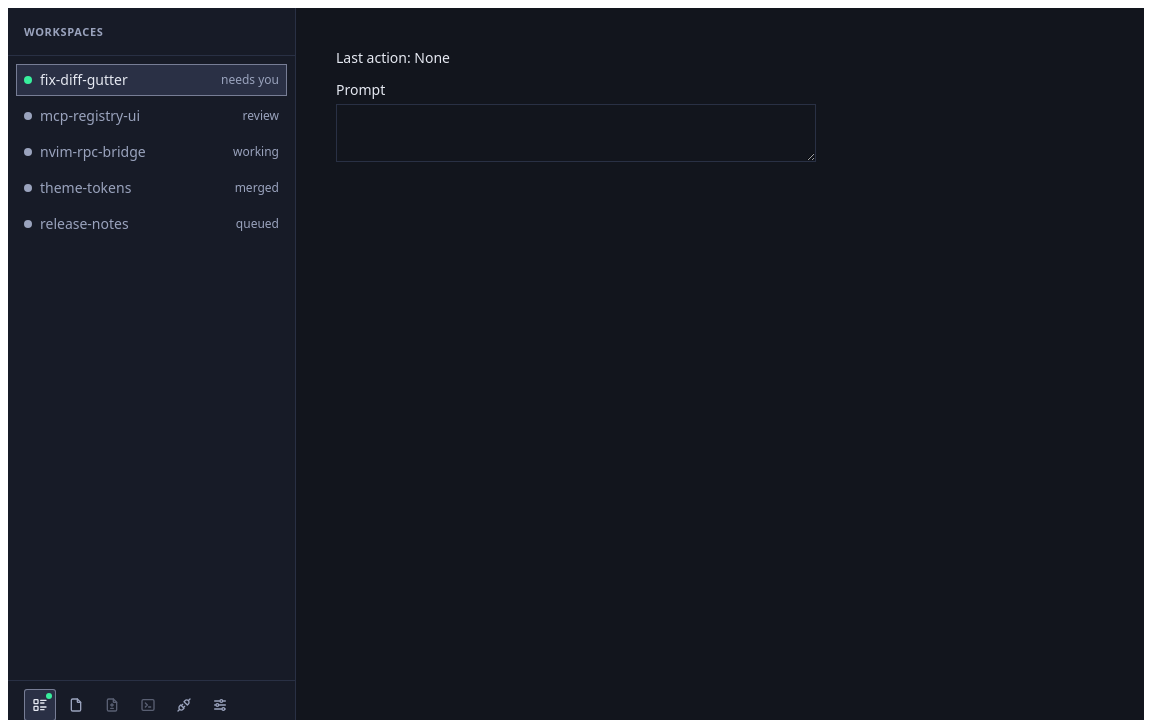
it: shows an empty result
The image size is (1152, 720).
Press k
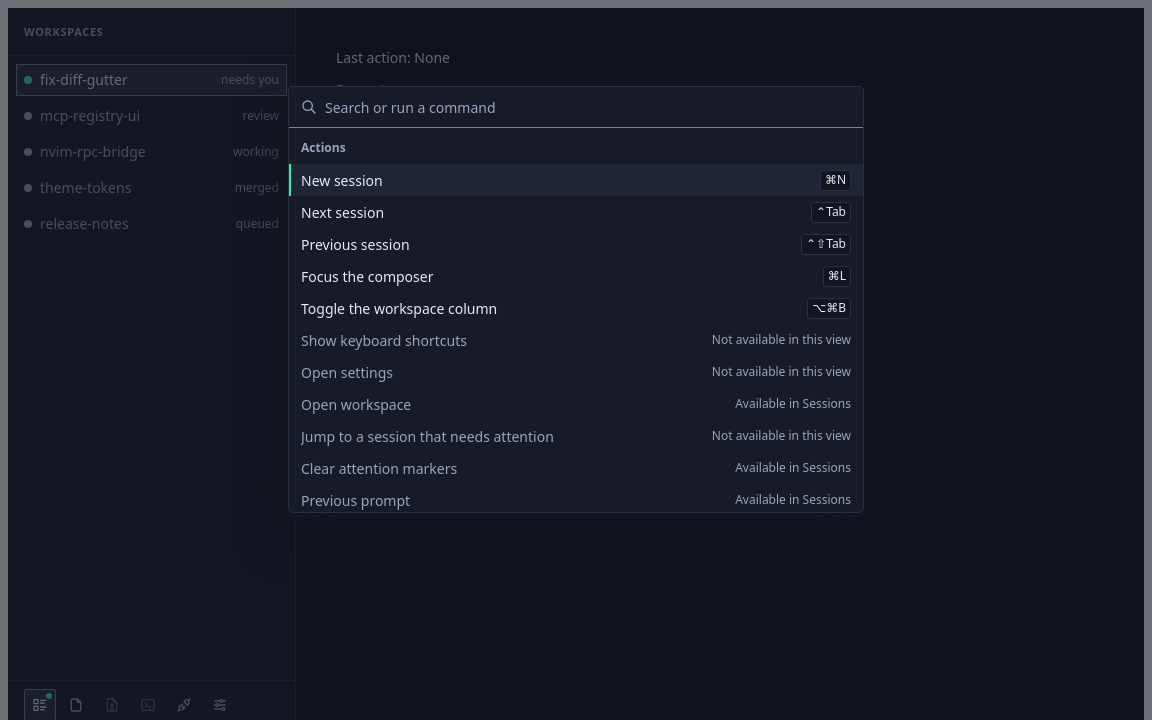
Check: the dialog named "Command palette" is shown, box top-left (288, 86), bottom-right (864, 513)
In the dropdown labelled "Search or run a command": (588, 107) top-left (325, 87), bottom-right (851, 127), type "qqqq"
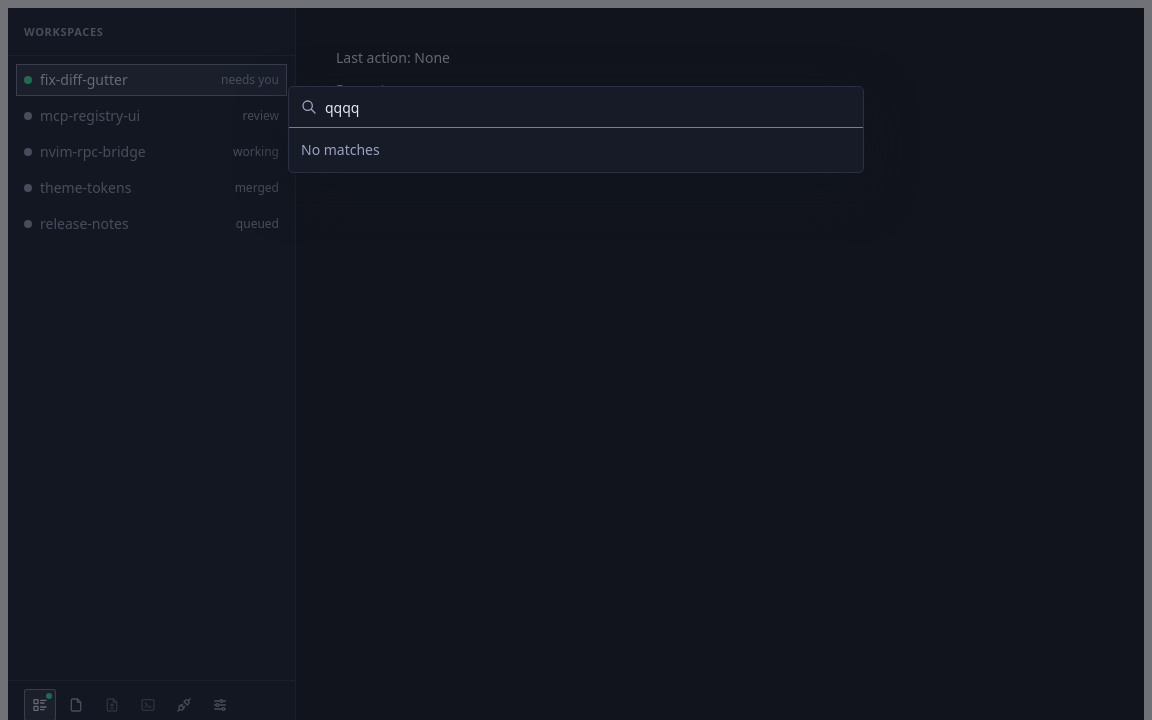
Check: the message reads "No matches", box top-left (301, 140), bottom-right (380, 159)
